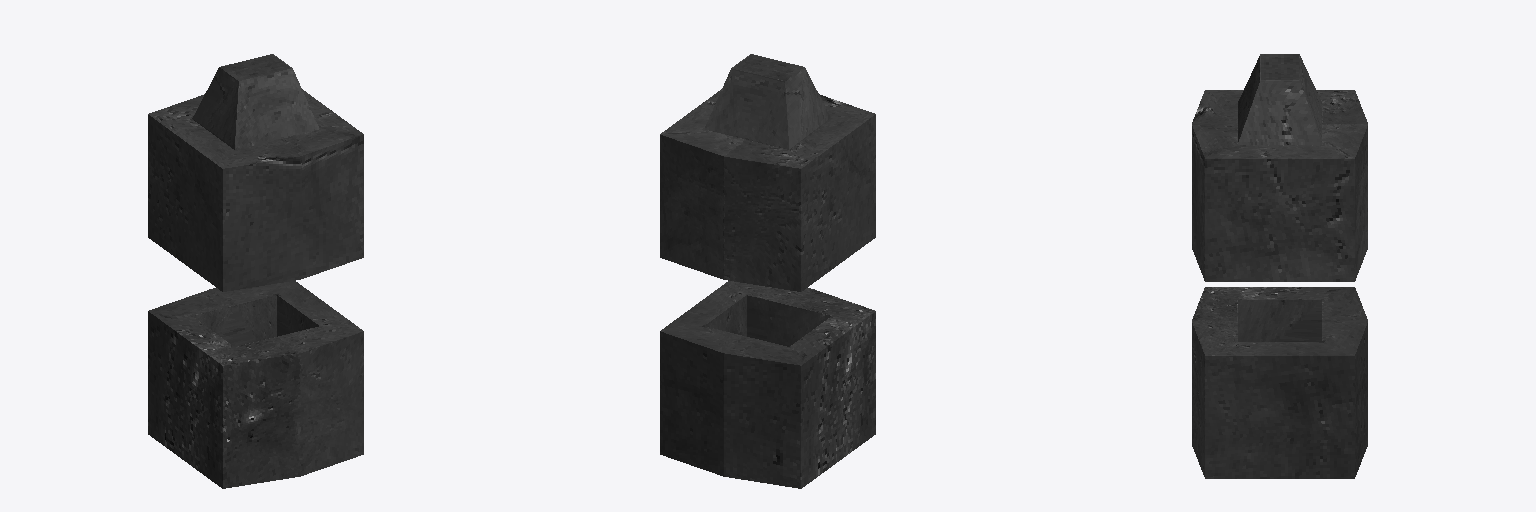
The picture shows the model from 3 angles: view 1: azimuth 30°, elevation 25°; view 2: azimuth 150°, elevation 25°; view 3: azimuth 270°, elevation 25°; orthographic projection.
Parts seen in each view (by area): view 1: Linterna_Cube.005; view 2: Linterna_Cube.005; view 3: Linterna_Cube.005.
Boxes of the visible parts, <box> form: Linterna_Cube.005: <box>148,54,363,488</box>; Linterna_Cube.005: <box>660,54,875,488</box>; Linterna_Cube.005: <box>1192,54,1367,478</box>.
Size of the model in its own units: 0.5327 by 1.36 by 0.5767.
Materials: 1 (1 with a texture image).